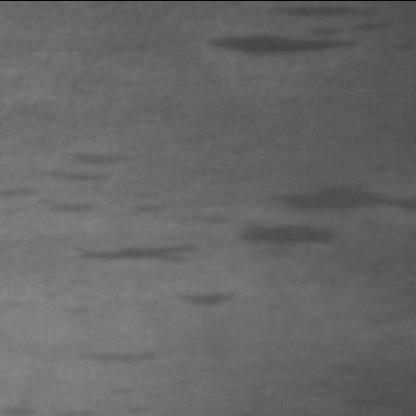inclusion: (198, 23, 368, 71), (42, 139, 130, 227), (266, 177, 416, 227), (75, 231, 206, 279), (237, 220, 343, 266), (70, 337, 174, 379), (170, 278, 245, 324)
